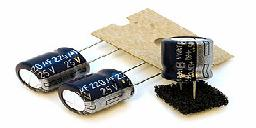Electrolytic Capacitor: (158, 31, 220, 107), (63, 67, 145, 113), (15, 45, 95, 82)
